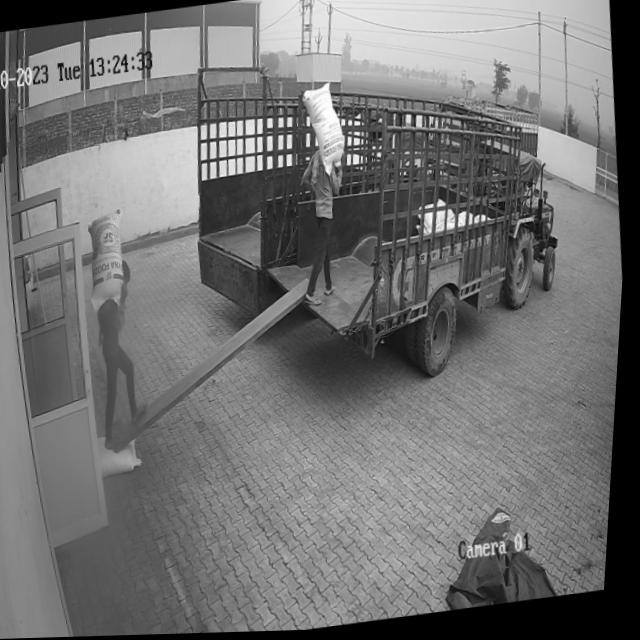sack: (297, 81, 352, 179), (85, 209, 134, 311), (103, 430, 150, 480)
